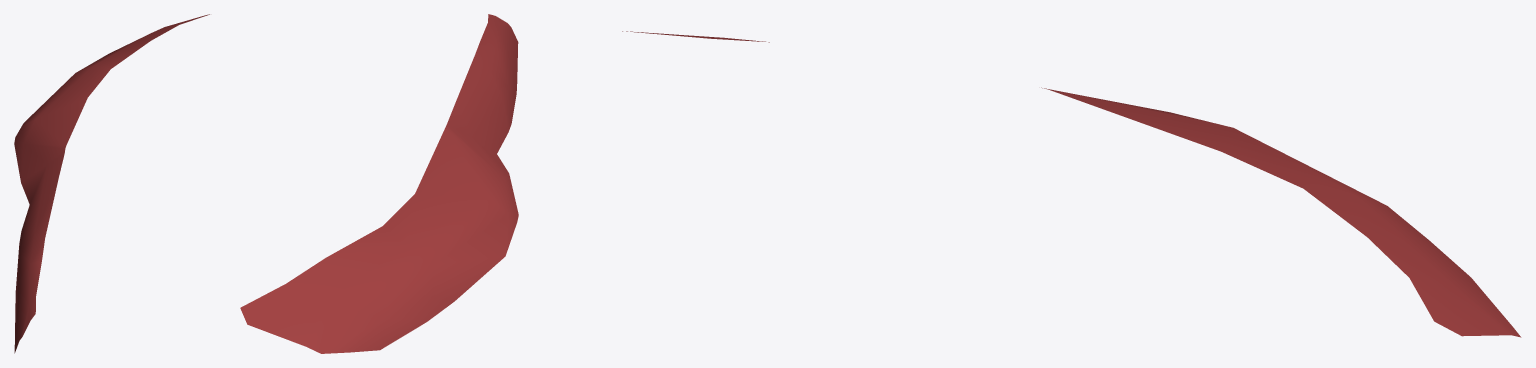
File: ascending-part-of-trapezius-muscle-ol.glb
The picture shows the model from 3 angles, left to right: view 1: azimuth 30°, elevation 25°; view 2: azimuth 210°, elevation 25°; view 3: azimuth 270°, elevation 25°; orthographic projection. The views are drawn at different scales.
Parts seen in each view (by area): view 1: Ascending part of trapezius muscle.ol; view 2: Ascending part of trapezius muscle.ol; view 3: Ascending part of trapezius muscle.ol.
Boxes of the visible parts, x1=… form: Ascending part of trapezius muscle.ol: x1=14, y1=14, x2=209, y2=353; Ascending part of trapezius muscle.ol: x1=240, y1=14, x2=518, y2=353; Ascending part of trapezius muscle.ol: x1=622, y1=31, x2=1521, y2=337.
Size of the model in its own units: 0.0498 by 0.00907 by 0.05.
